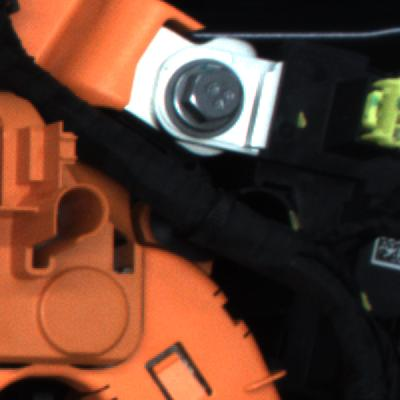nut_b: (166, 60, 275, 147)
